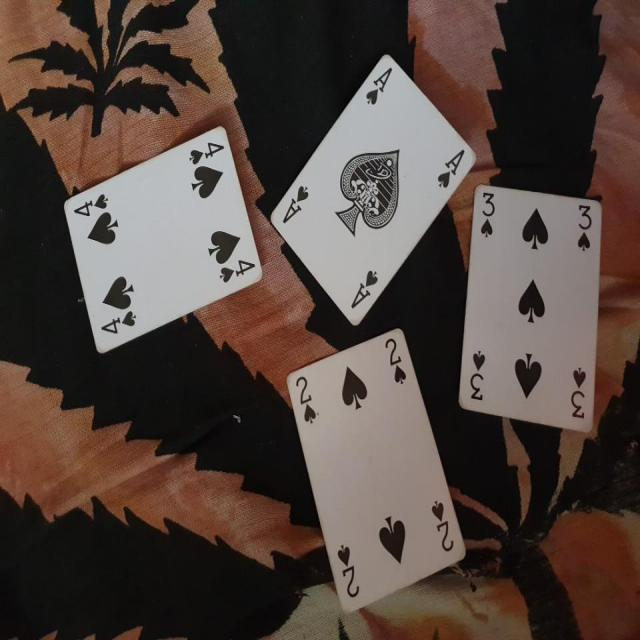2 Spades: (276, 324, 465, 606)
3 Spades: (459, 183, 607, 444)
4 Spades: (61, 125, 262, 361)
A Spades: (262, 55, 469, 330)
